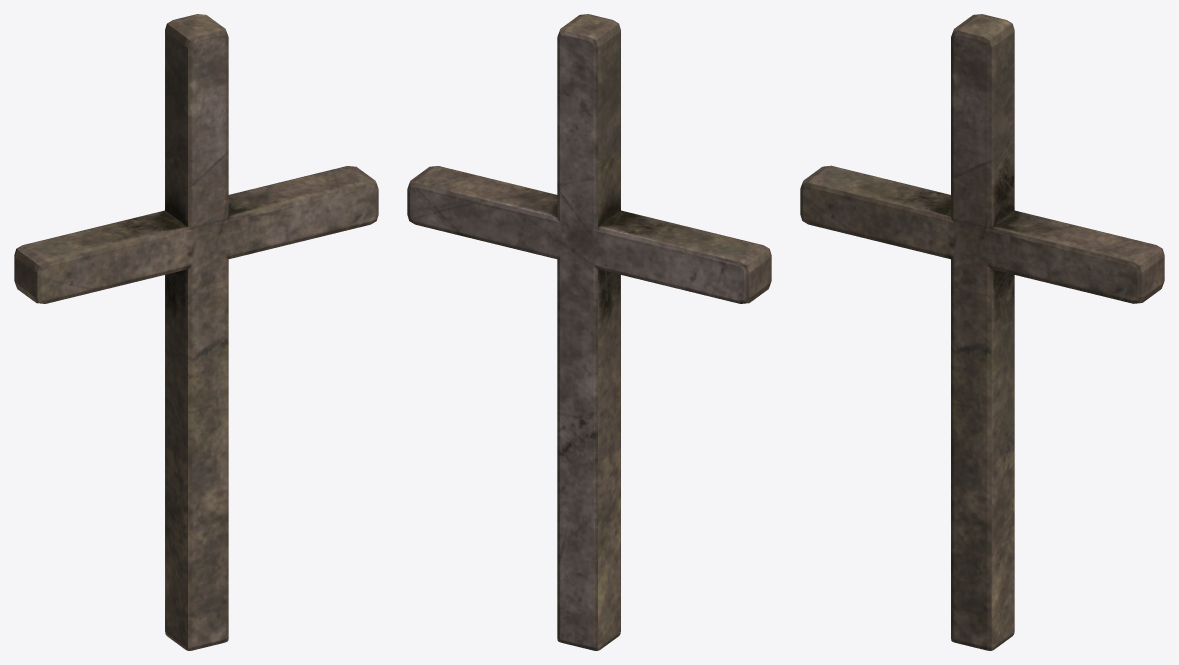
File: SM_gravestone_18.fbx
3 views of the same model, side by side, from view 1: azimuth 30°, elevation 25°; view 2: azimuth 150°, elevation 25°; view 3: azimuth 330°, elevation 25° (orthographic).
Visible parts, largest first — view 1: SM_gravestone_018; view 2: SM_gravestone_018; view 3: SM_gravestone_018.
Part boxes in pixels (<box>): SM_gravestone_018: <box>14,14,378,650</box>; SM_gravestone_018: <box>407,14,771,650</box>; SM_gravestone_018: <box>800,14,1164,650</box>.
Size of the model in its own units: 38.34 by 65.57 by 4.74.
